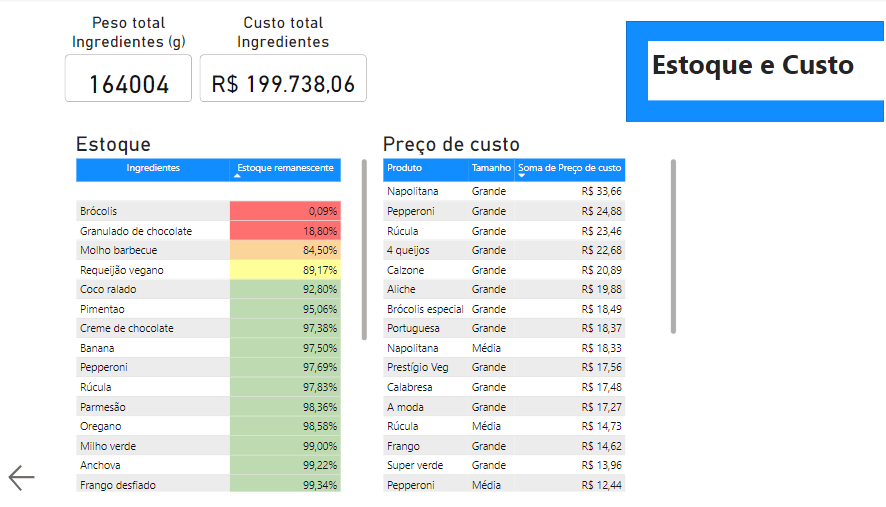

Layout of this report page (visuals, bound fields, positions):
{"tool":"powerbi","page":{"name":"Pagina 2 - Estoque","canvas":[1280,720],"ordinal":1},"visuals":[{"type":"shape","box":[893.8,31.2,356.2,138.8],"z":0},{"type":"tableEx","title":"Preço de custo","fields":{"Values":["total_ingredients.item_name","total_ingredients.item_size","Sum(total_ingredients.preco_unit_recipe)"]},"box":[552.5,183.8,416.2,502.5],"z":1000},{"type":"tableEx","title":"Estoque","fields":{"Values":["total_ingredients.ing_name","estoque_result.Personalizar"]},"box":[128.8,183.8,412.5,502.5],"z":2000},{"type":"textbox","box":[923.4,59.9,326,81.5],"z":3000},{"type":"cardVisual","title":"Peso total  Ingredientes (g)","fields":{"Data":["Sum(total_ingredients.ing_weight)"]},"box":[113.8,21.2,186.2,128.8],"z":4000},{"type":"actionButton","box":[35.7,639.4,65,47.1],"z":5000},{"type":"cardVisual","title":"Custo total  Ingredientes","fields":{"Data":["Sum(total_ingredients.ingredient_cost_total)"]},"box":[300,21.2,241.2,128.8],"z":6001}]}

Visuals, with their boxes in screenshot pixels (x1, y1, x2, y2), scaled from the page's 1280x720 canvas onto the 886x507 screenshot:
shape: locate(619, 22, 865, 120)
"Preço de custo" tableEx: locate(382, 129, 671, 483)
"Estoque" tableEx: locate(89, 129, 375, 483)
textbox: locate(639, 42, 865, 100)
"Peso total  Ingredientes (g)" cardVisual: locate(79, 15, 208, 106)
actionButton: locate(25, 450, 70, 483)
"Custo total  Ingredientes" cardVisual: locate(208, 15, 375, 106)
